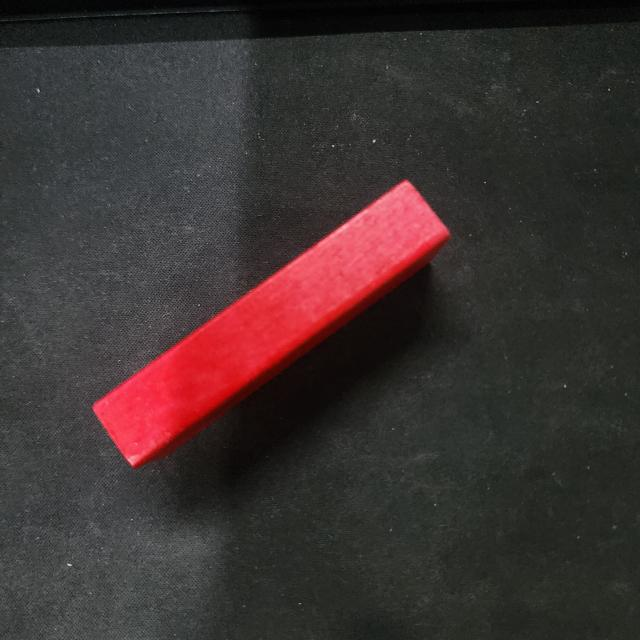red: (91, 175, 456, 474)
